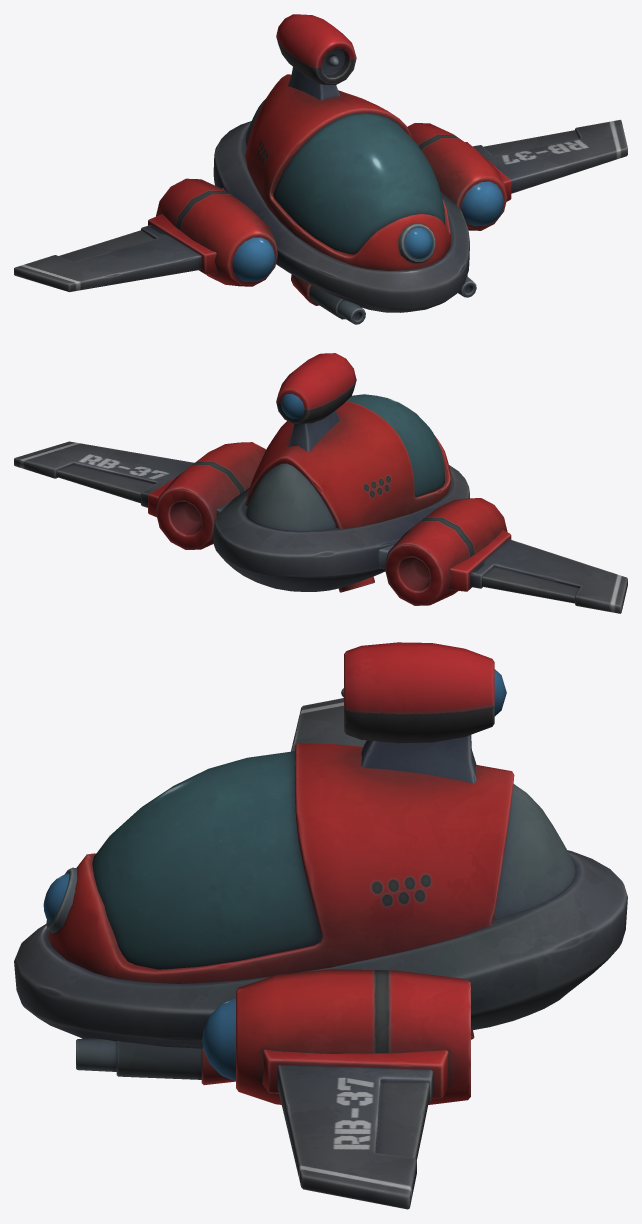
File: Spaceship_Hero_RB37.fbx
3 views of the same model, one above another, from view 1: azimuth 30°, elevation 25°; view 2: azimuth 150°, elevation 25°; view 3: azimuth 270°, elevation 25° (orthographic). The views are drawn at different scales.
Parts seen in each view (by area): view 1: Spaceship_Hero_RB37; view 2: Spaceship_Hero_RB37; view 3: Spaceship_Hero_RB37.
Boxes of the visible parts, x1,y1,x2,y2 form: Spaceship_Hero_RB37: (14,14,627,324); Spaceship_Hero_RB37: (14,353,627,613); Spaceship_Hero_RB37: (14,642,627,1209).
Size of the model in its own units: 12.4 by 4.4 by 6.29.
